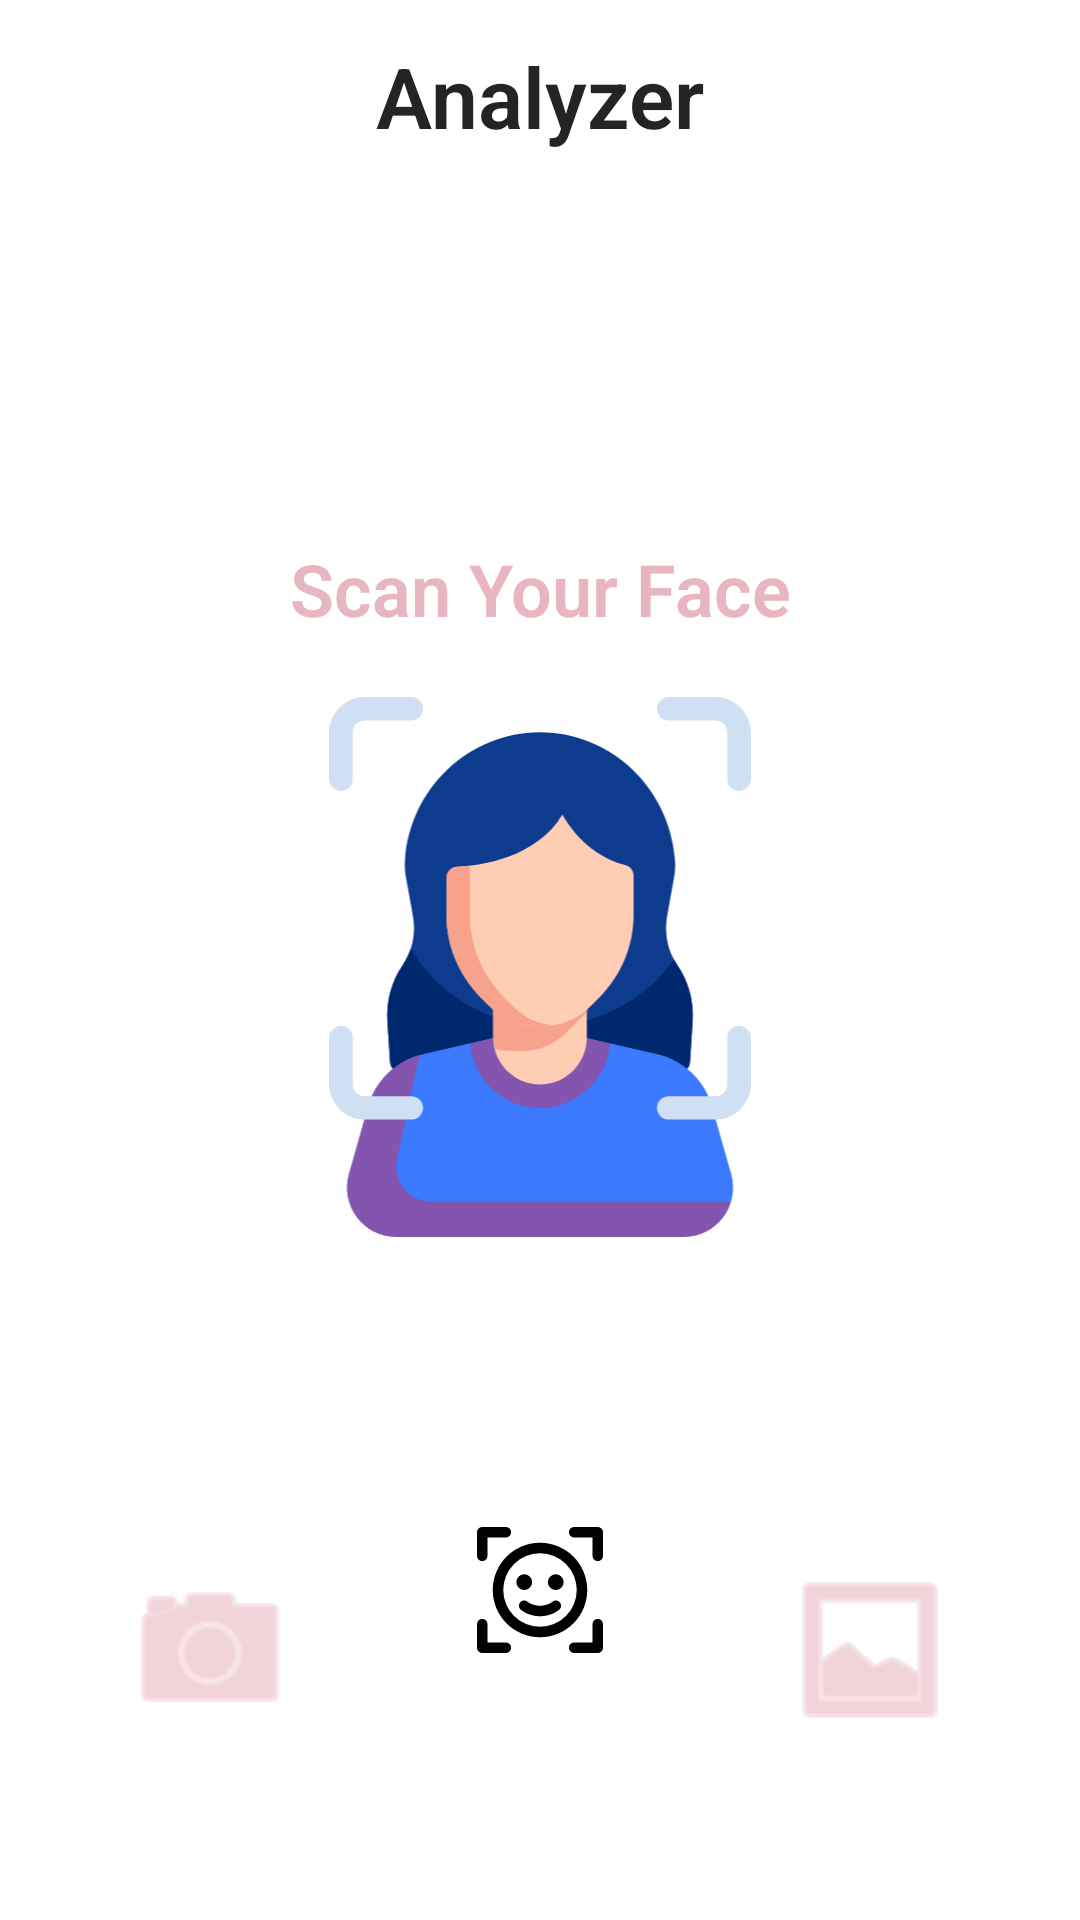

Icons on this 1080 × 1920 Android screen, each with its box as (x1, y1, x2, y2):
Open camera: (142, 1594, 278, 1701)
Open gallery: (803, 1583, 937, 1717)
Start scanning: (477, 1527, 603, 1653)
